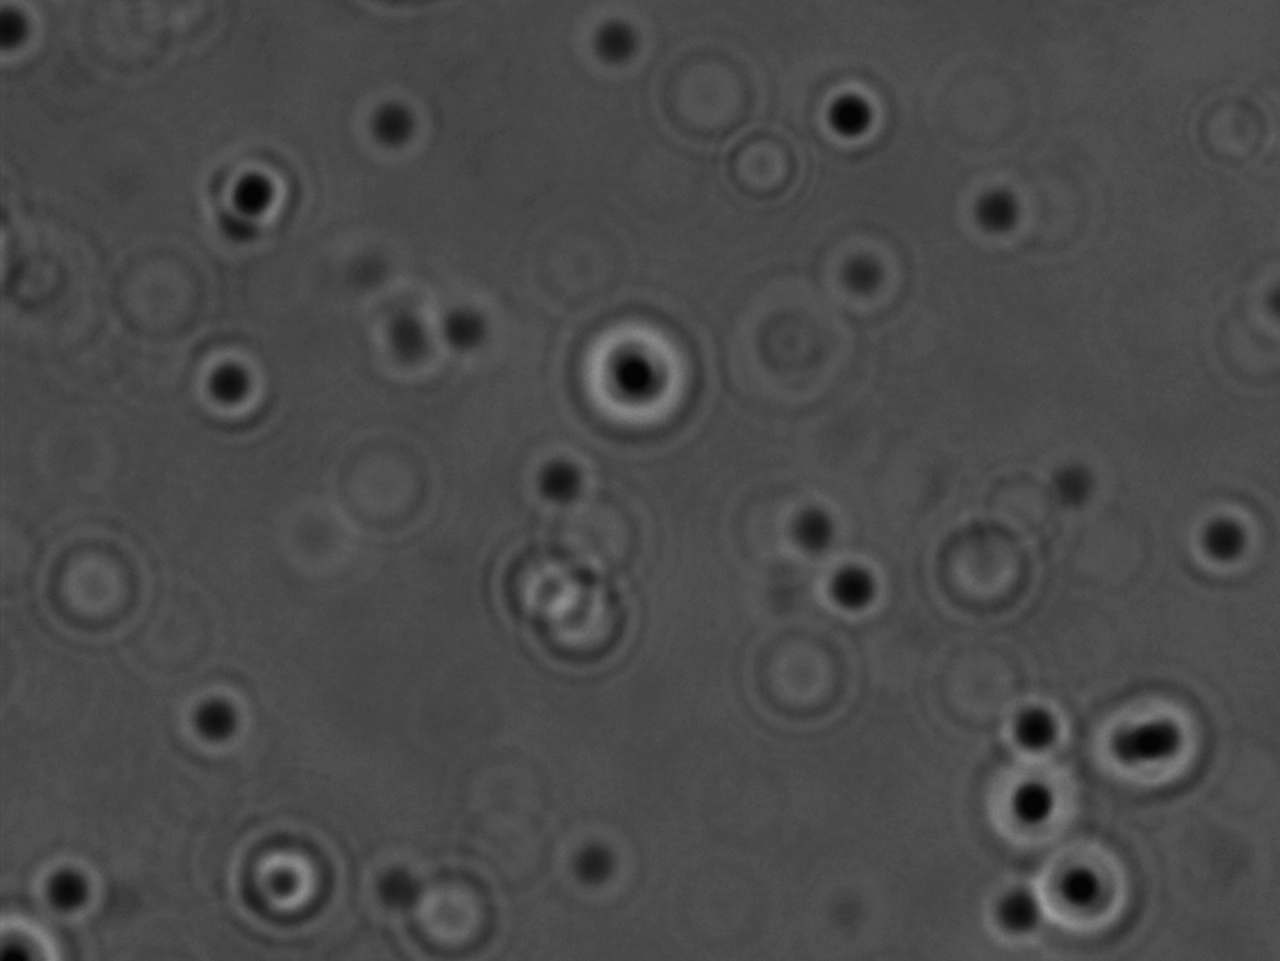depth:-24: (565, 299, 710, 447), (1021, 810, 1165, 941), (1085, 671, 1221, 805), (971, 741, 1098, 859)
